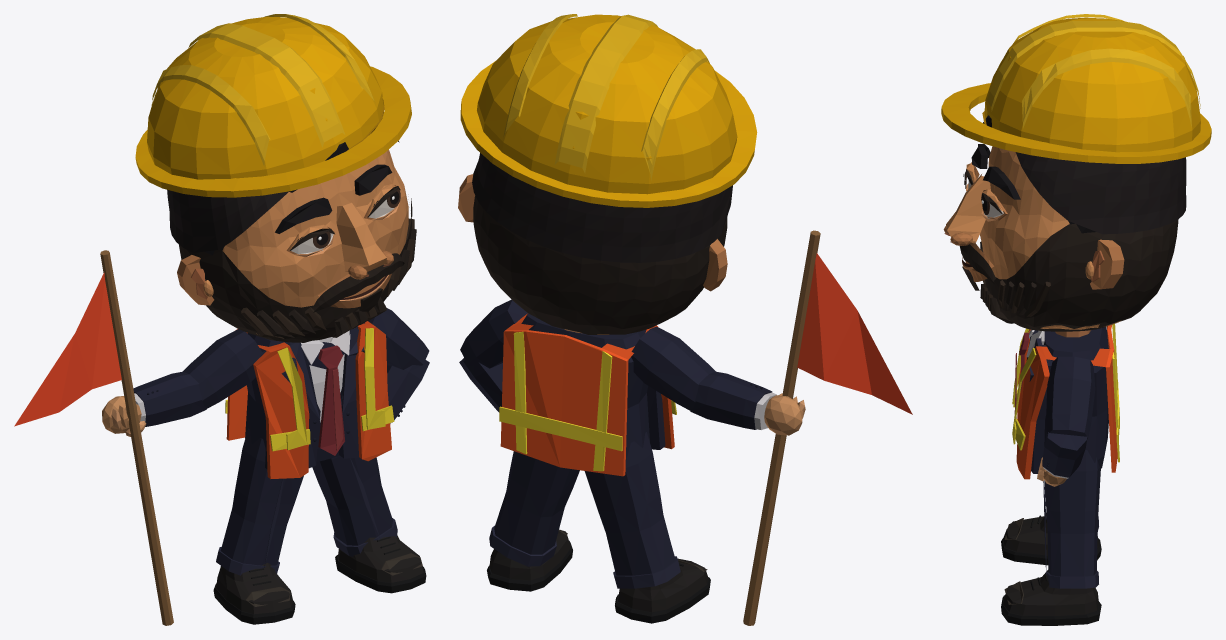
The model's file is mamdani-construction.glb.
3 views of the same model, side by side, from view 1: azimuth 30°, elevation 25°; view 2: azimuth 150°, elevation 25°; view 3: azimuth 270°, elevation 25° (orthographic). The views are drawn at different scales.
Parts seen in each view (by area): view 1: hardhat-surface, head-surface, body-surface (×2), flag, oxford-shoe-surface (×2), leg-right-surface, leg-left-surface, arm-right, forearm-right-surface, arm-left, forearm-left-surface, ear--1-surface (+5 smaller); view 2: hardhat-surface, head-surface, body-surface (×3), flag, leg-right-surface, leg-left-surface, oxford-shoe-surface (×2), arm-right, forearm-right-surface, arm-left, hand-right-surface, forearm-left-surface (+2 smaller); view 3: head-surface, hardhat-surface, body-surface (×2), leg-left-surface, oxford-shoe-surface (×2), arm-left, forearm-left-surface, ear-1-surface, eye-1-surface, brow-1.
Boxes of the visible parts, box(x1,y1,x2,y2) form: hardhat-surface: box(135, 14, 411, 197); head-surface: box(167, 112, 416, 342); body-surface (×2): box(225, 321, 394, 478); flag: box(14, 250, 173, 625); oxford-shoe-surface (×2): box(213, 535, 426, 624); leg-right-surface: box(216, 429, 303, 575); leg-left-surface: box(312, 456, 397, 556); arm-right: box(183, 329, 262, 408); forearm-right-surface: box(133, 371, 206, 426); arm-left: box(368, 308, 429, 369); forearm-left-surface: box(387, 359, 429, 423); ear--1-surface: box(177, 255, 214, 305); hardhat-surface: box(460, 14, 757, 207); head-surface: box(472, 153, 732, 334); body-surface (×3): box(499, 313, 676, 476); flag: box(743, 230, 912, 625); leg-right-surface: box(584, 432, 680, 588); leg-left-surface: box(489, 451, 579, 566); oxford-shoe-surface (×2): box(487, 529, 710, 623); arm-right: box(631, 326, 715, 410); forearm-right-surface: box(690, 371, 776, 429); arm-left: box(460, 299, 527, 368); hand-right-surface: box(764, 393, 805, 435); forearm-left-surface: box(459, 358, 502, 412); head-surface: box(943, 115, 1186, 331); hardhat-surface: box(941, 14, 1211, 163); body-surface (×2): box(1012, 327, 1119, 479); leg-left-surface: box(1043, 450, 1100, 588); oxford-shoe-surface (×2): box(1001, 513, 1101, 625); arm-left: box(1046, 356, 1095, 438); forearm-left-surface: box(1042, 432, 1087, 478); ear-1-surface: box(1085, 239, 1124, 289); eye-1-surface: box(981, 189, 1007, 221); brow-1: box(983, 166, 1020, 199).
Size of the model in its own units: 0.9868 by 1.24 by 0.5602.
